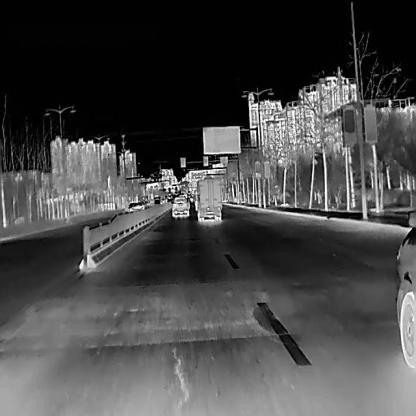car: (195, 176, 221, 221), (170, 195, 189, 218), (152, 195, 161, 207)
